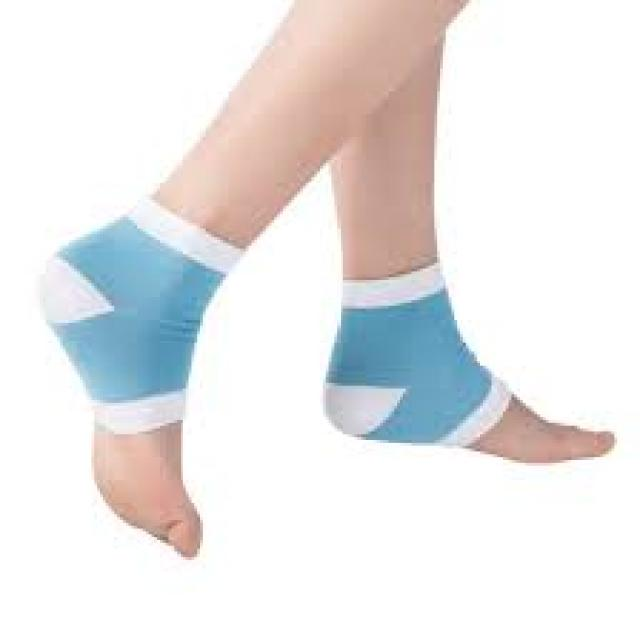sock: (37, 194, 243, 434), (320, 260, 511, 449)
